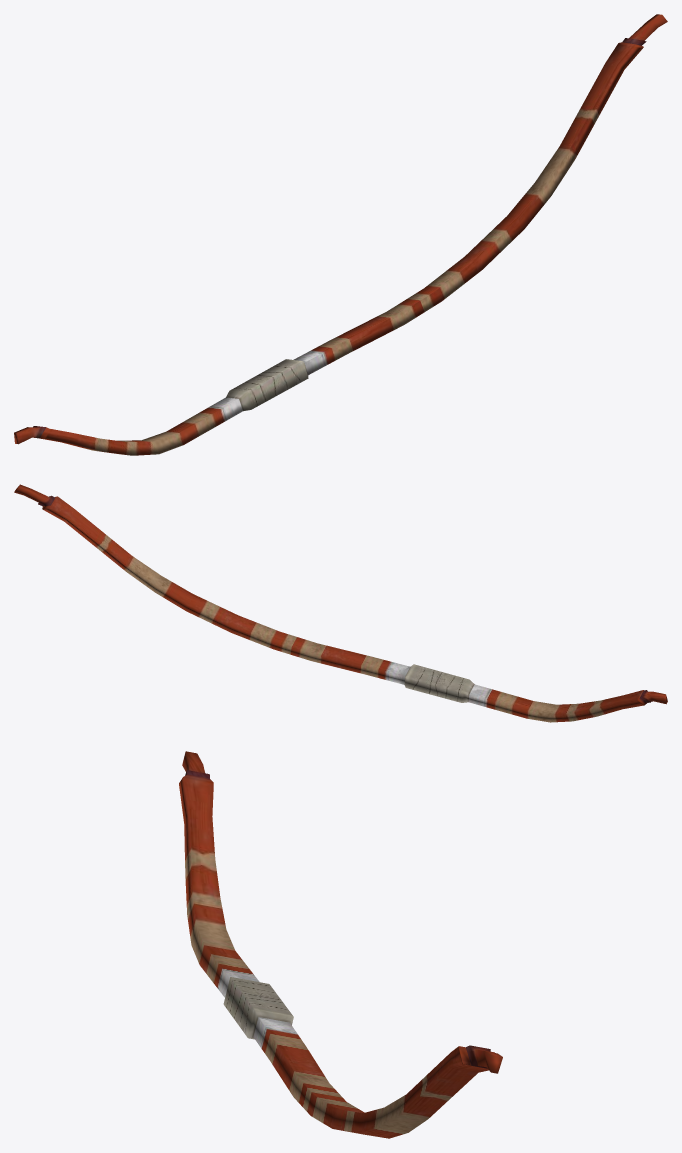
File: rangedweapon-ironweapons.glb
3 views of the same model, one above another, from view 1: azimuth 30°, elevation 25°; view 2: azimuth 150°, elevation 25°; view 3: azimuth 270°, elevation 25° (orthographic). The views are drawn at different scales.
Bounding box in the file's own units: 1.98 × 0.5709 × 0.4818.
1 material, 1 textured.
